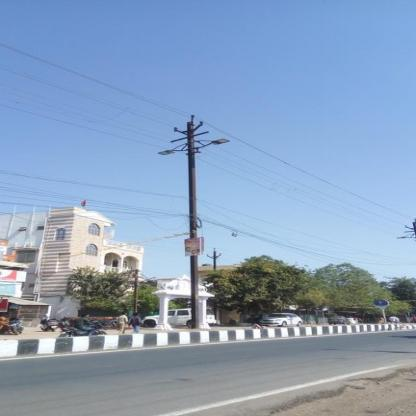Electrical Pole: (154, 113, 237, 332)
